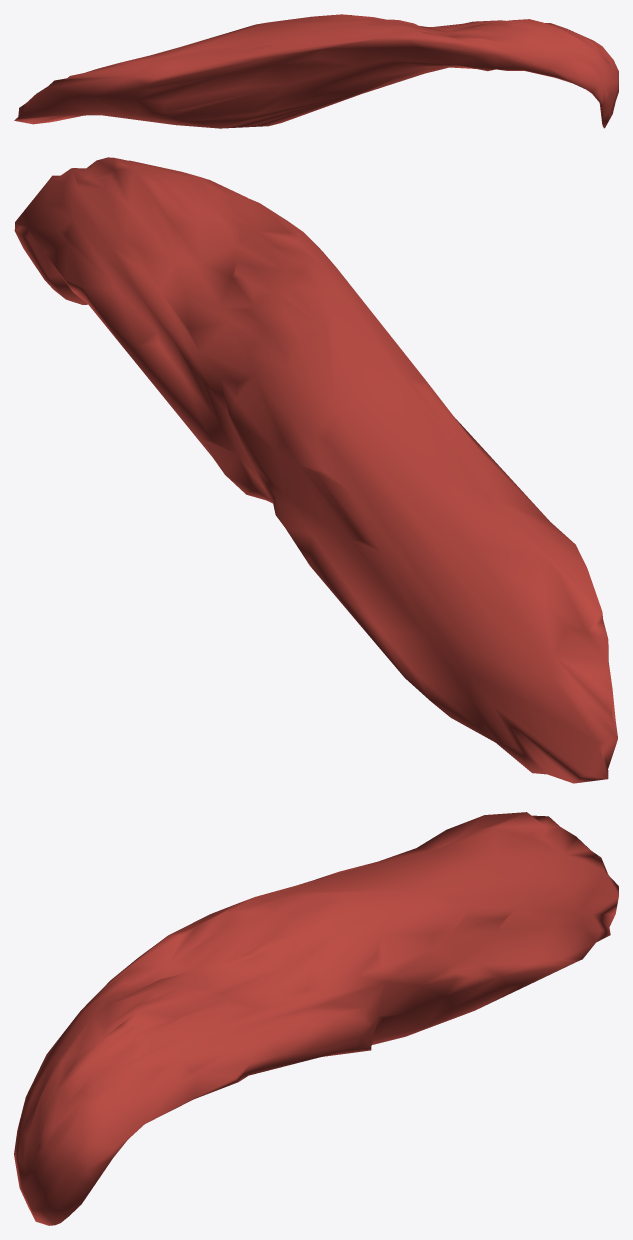
Rendered from musculos-supraspinatus-muscle-l.glb.
3 views of the same model, one above another, from view 1: azimuth 30°, elevation 25°; view 2: azimuth 150°, elevation 25°; view 3: azimuth 270°, elevation 25° (orthographic). The views are drawn at different scales.
Visible parts, largest first — view 1: Supraspinatus muscle.l; view 2: Supraspinatus muscle.l; view 3: Supraspinatus muscle.l.
Part boxes in pixels (left/top/right/bottom): Supraspinatus muscle.l: left=14, top=14, right=618, bottom=128; Supraspinatus muscle.l: left=14, top=157, right=617, bottom=783; Supraspinatus muscle.l: left=14, top=812, right=618, bottom=1225.
Size of the model in its own units: 0.1251 by 0.0328 by 0.0846.
